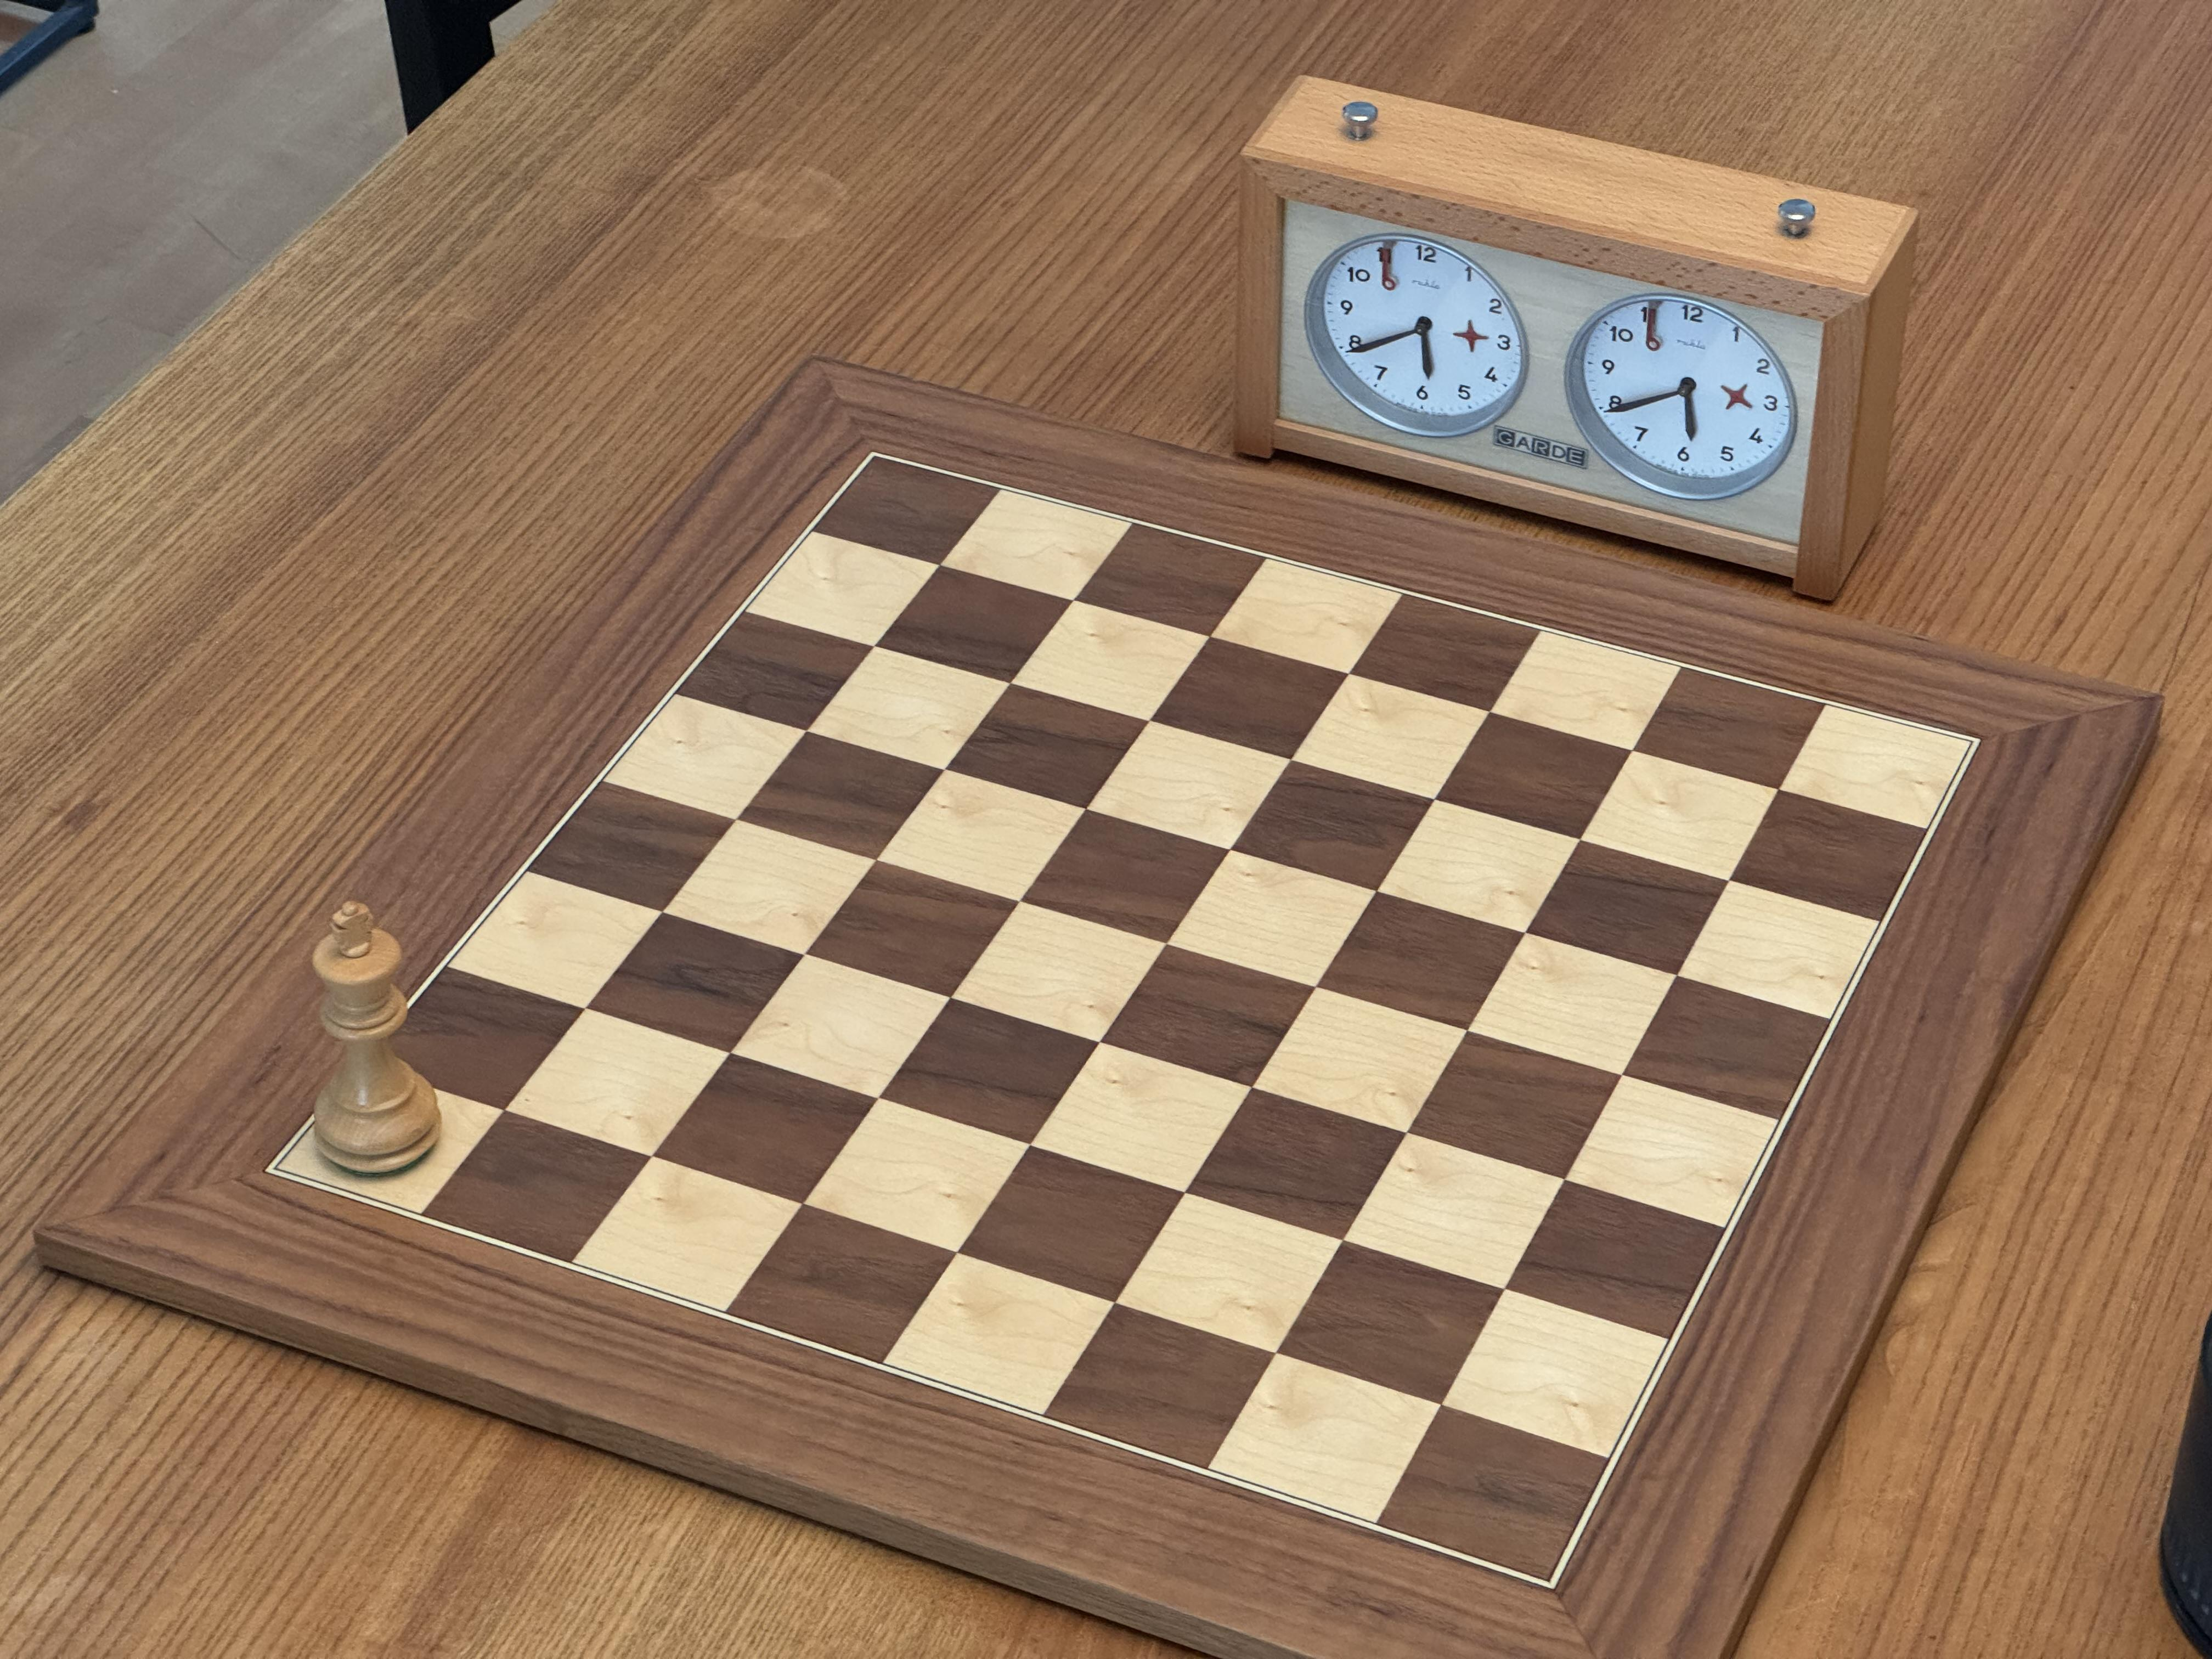White King: (307, 896, 447, 1182)
